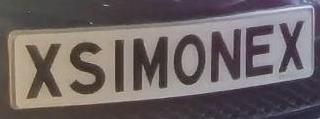0: (169, 26, 210, 89)
1: (104, 31, 132, 98)
E: (242, 18, 276, 83)
M: (131, 30, 171, 98)
N: (208, 23, 243, 88)
S: (62, 36, 109, 101)
X: (20, 37, 65, 105), (273, 12, 308, 78)
